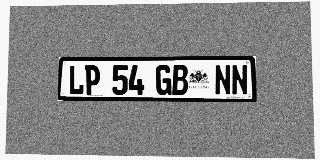4: (128, 65, 144, 95)
5: (112, 65, 128, 95)
B: (172, 65, 188, 95)
G: (156, 65, 171, 95)
L: (68, 65, 84, 95)
N: (214, 65, 231, 95), (231, 65, 248, 95)
P: (84, 65, 100, 95)
